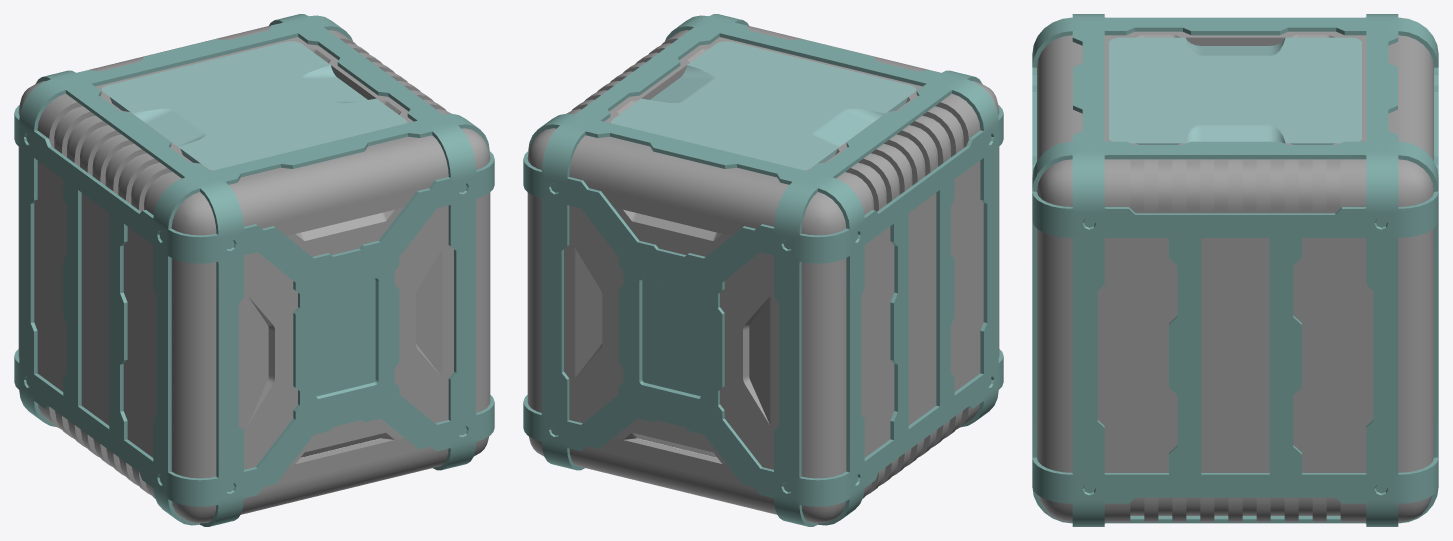
The model's file is asd as.fbx.
The picture shows the model from 3 angles, left to right: view 1: azimuth 30°, elevation 25°; view 2: azimuth 150°, elevation 25°; view 3: azimuth 270°, elevation 25°; orthographic projection. The views are drawn at different scales.
Visible parts, largest first — view 1: 4, 3, 2, 1; view 2: 4, 3, 2, 1; view 3: 4, 3, 2, 1.
Part boxes in pixels (x1=…): 4: x1=14, y1=14, x2=494, y2=526; 3: x1=18, y1=147, x2=490, y2=478; 2: x1=18, y1=24, x2=490, y2=523; 1: x1=101, y1=41, x2=407, y2=170; 4: x1=523, y1=14, x2=1003, y2=526; 3: x1=527, y1=147, x2=999, y2=478; 2: x1=527, y1=24, x2=999, y2=523; 1: x1=610, y1=41, x2=916, y2=170; 4: x1=1032, y1=14, x2=1438, y2=526; 3: x1=1037, y1=229, x2=1433, y2=472; 2: x1=1037, y1=31, x2=1433, y2=522; 1: x1=1109, y1=37, x2=1361, y2=144.
Size of the model in its own units: 205 by 205 by 205.
